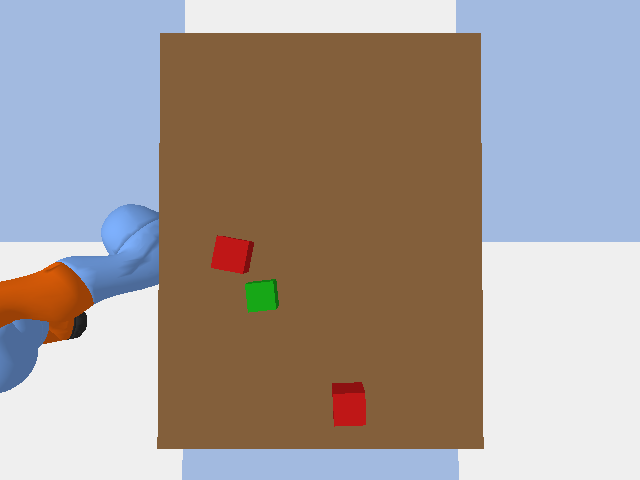green_obj: (245, 279, 278, 312)
red_obj: (211, 235, 253, 273), (332, 382, 365, 426)
